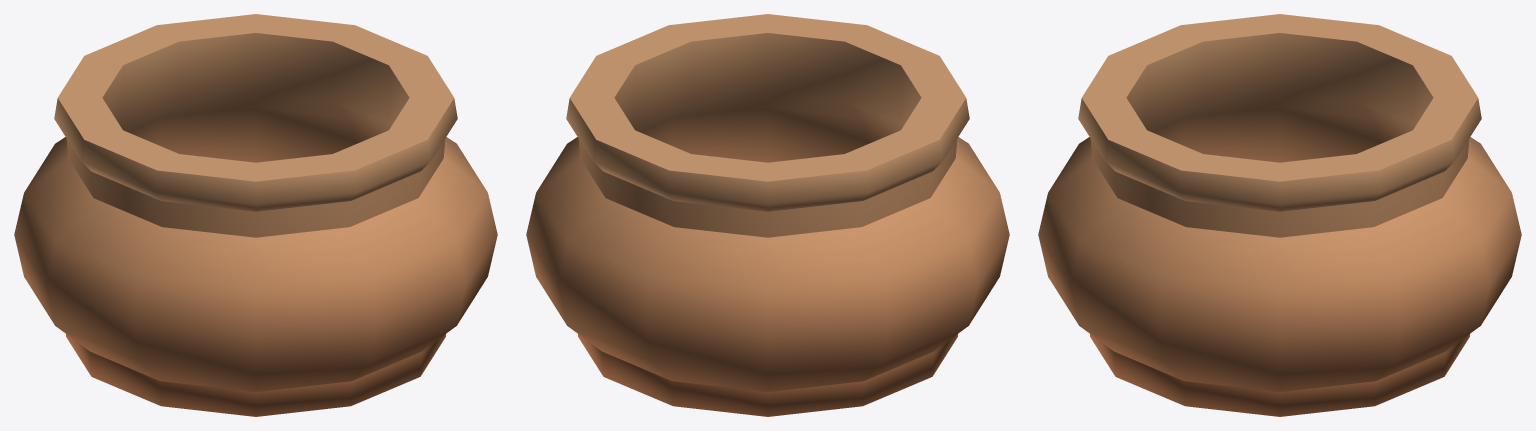
File: dungeonkit_decor_pots02.fbx
3 renders of one model, left to right at view 1: azimuth 30°, elevation 25°; view 2: azimuth 150°, elevation 25°; view 3: azimuth 270°, elevation 25°, orthographic.
Parts seen in each view (by area): view 1: Cylinder.005; view 2: Cylinder.005; view 3: Cylinder.005.
Part boxes in pixels (box(x1,y1,x2,y2)): Cylinder.005: box(14, 14, 497, 416); Cylinder.005: box(526, 14, 1009, 416); Cylinder.005: box(1038, 14, 1521, 416).
Size of the model in its own units: 106 by 57.55 by 106.
